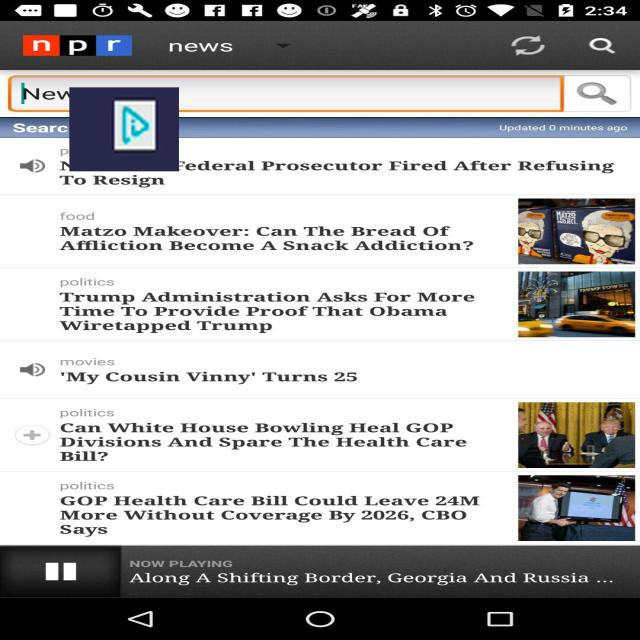sneaking: (69, 88, 179, 172)
